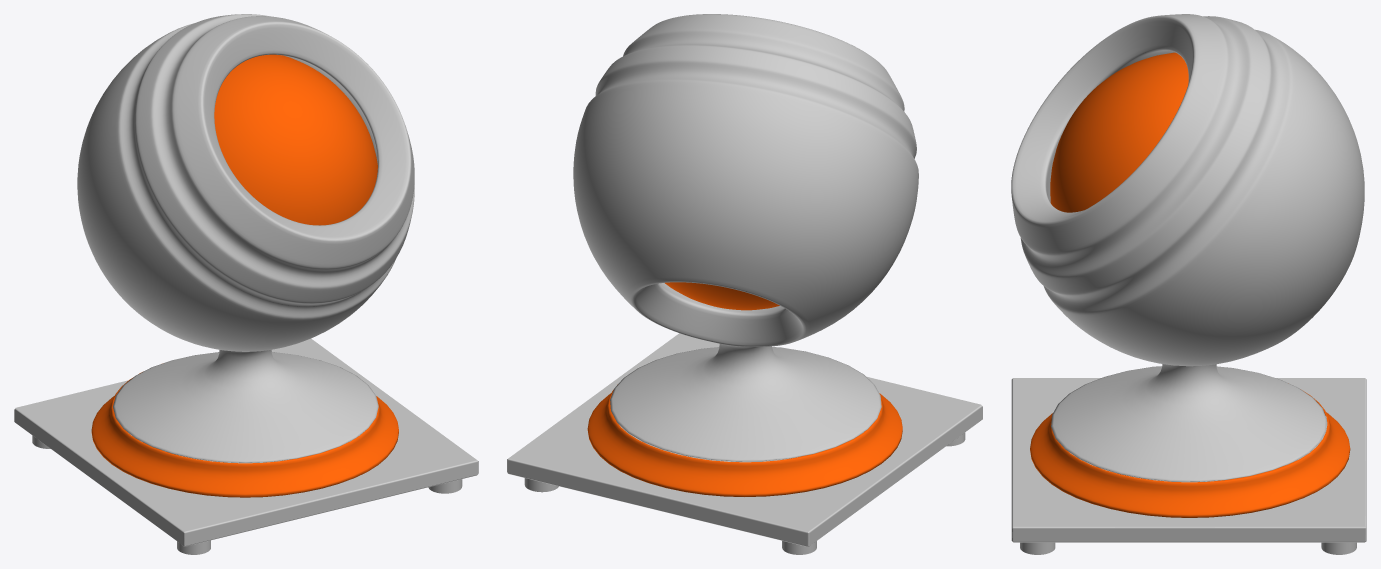
File: MatBall.fbx
3 views of the same model, side by side, from view 1: azimuth 30°, elevation 25°; view 2: azimuth 150°, elevation 25°; view 3: azimuth 270°, elevation 25° (orthographic). The views are drawn at different scales.
Parts seen in each view (by area): view 1: MatBall3; view 2: MatBall3; view 3: MatBall3.
Part boxes in pixels (<box>): MatBall3: <box>14,14,478,554</box>; MatBall3: <box>507,14,982,554</box>; MatBall3: <box>1011,14,1366,554</box>.
Size of the model in its own units: 103 by 146 by 104.
